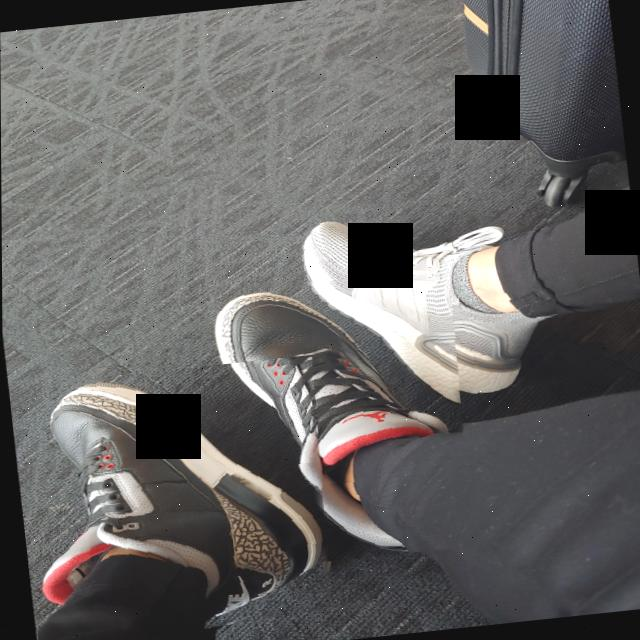shoe: (8, 354, 342, 640), (202, 262, 478, 570), (285, 189, 566, 427)
